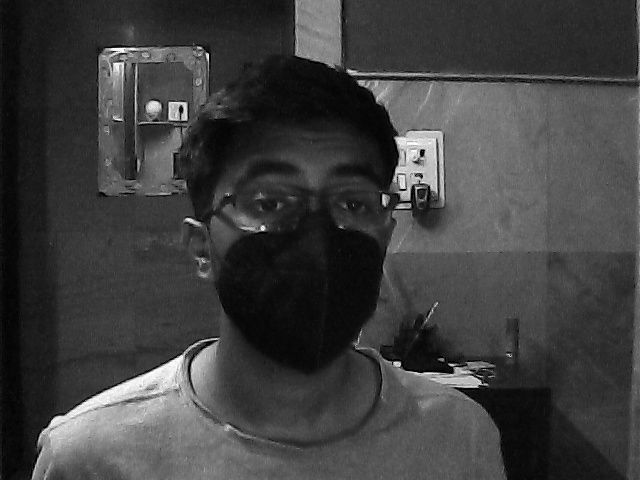mask: (200, 137, 399, 377)
